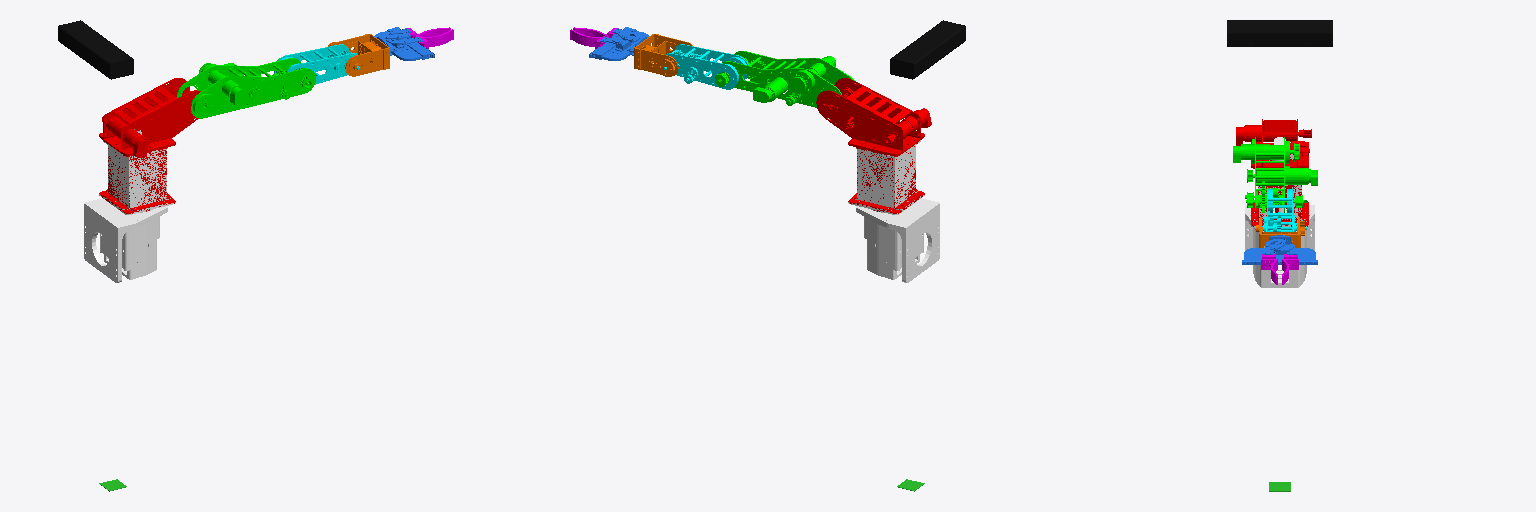
The robot description file, URDF, robot "xm_urdf":
<robot
  name="xm_urdf">
  <link
    name="base_link">
    <inertial>
      <origin
        xyz="-0.040081 0.0020354 0.00771"
        rpy="0 0 0" />
      <mass
        value="19.957" />
      <inertia
        ixx="1.5944"  
        ixy="0.00026634"
        ixz="-0.12442"
        iyy="1.6002"
        iyz="-0.0030432"
        izz="0.43455" />
    </inertial>
    <visual>
      <origin
        xyz="0 0 0"
        rpy="0 0 0" />
      <geometry>
        <mesh
          filename="package://xm_urdf/meshes/base_link.STL" />
      </geometry>
      <material
        name="">
        <color
          rgba="0 0 1 1" />
      </material>
    </visual>
    <collision>
      <origin
        xyz="0 0 0"
        rpy="0 0 0" />
      <geometry>
        <mesh
          filename="package://xm_urdf/meshes/base_link.STL" />
      </geometry>
    </collision>
  </link>

  <link name="base_footprint">
    <visual>
      <origin xyz="0 0 0" rpy="0 0 0" />
      <geometry>
        <box size="0.05 0.05 0.001" />
      </geometry>
         <material name="green">
            <color rgba="0.2 0.8 0.2 1.0"/>
         </material>   
    </visual>

    <collision>
      <origin xyz="0 0 0" rpy="0 0 0" />
      <geometry>
       <box size="0.001 0.001 0.001" />
      </geometry>
    </collision>
  </link>

  <joint name="Joint_base" type="fixed">
    <origin xyz="0 0 0 " rpy="0 0 0" />        
    <parent link="base_footprint"/>
    <child link="base_link" />
  </joint>

  <link
    name="lifting_link">
    <inertial>
      <origin
        xyz="0.074678 2.0348E-10 0.044467"
        rpy="0 0 0" />
      <mass
        value="4.139" />
      <inertia
        ixx="0.017083"
        ixy="6.8588E-11"
        ixz="0.0074192"
        iyy="0.023514"
        iyz="-2.4738E-11"
        izz="0.020683" />
    </inertial>
    <visual>
      <origin
        xyz="0 0 0"
        rpy="0 0 0" />
      <geometry>
        <mesh
          filename="package://xm_urdf/meshes/lifting_Link.STL" />
      </geometry>
      <material
        name="">
        <color
          rgba="1 1 1 1" />
      </material>
    </visual>
    <collision>
      <origin
        xyz="0 0 0"
        rpy="0 0 0" />
      <geometry>
        <mesh
          filename="package://xm_urdf/meshes/lifting_Link.STL" />
      </geometry>
    </collision>
  </link>
  <joint
    name="joint_lifting"
    type="prismatic">
    <origin
      xyz="-0.069 0 0.63"
      rpy="3.4694E-16 -2.4652E-32 1.1061E-16" />
    <parent
      link="base_link" />
    <child
      link="lifting_link" />
    <axis
      xyz="0 0 1" />
    <limit
      lower="-0.18"
      upper="0.2"
      effort="0"
      velocity="1" />
  </joint>
  <link
    name="waist_link">
    <inertial>
      <origin
        xyz="0.00028239 -0.011695 0.023378"
        rpy="0 0 0" />
      <mass
        value="1.8049" />
      <inertia
        ixx="0.014015"
        ixy="0.00036488"
        ixz="0.0018608"
        iyy="0.015768"
        iyz="-0.0002136"
        izz="0.0079986" />
    </inertial>
    <visual>
      <origin
        xyz="0 0 0"
        rpy="0 0 0" />
      <geometry>
        <mesh
          filename="package://xm_urdf/meshes/waist_Link.STL" />
      </geometry>
      <material
        name="">
        <color
          rgba="1 0 0 1" />
      </material>
    </visual>
    <collision>
      <origin
        xyz="0 0 0"
        rpy="0 0 0" />
      <geometry>
        <mesh
          filename="package://xm_urdf/meshes/waist_Link.STL" />
      </geometry>
    </collision>
  </link>
  <joint
    name="joint_waist"
    type="revolute">
    <origin
      xyz="0.136 0 0.2228"
      rpy="-2.5007E-16 6.163E-33 -5.5103E-17" />
    <parent
      link="lifting_link" />
    <child
      link="waist_link" />
    <axis
      xyz="0 0 1" />
    <limit
      lower="-1.57"
      upper="1.57"
      effort="0"
      velocity="1" />
  </joint>
  <link
    name="big_arm_link">
    <inertial>
      <origin
        xyz="0.13657 -0.019222 0.004697"
        rpy="0 0 0" />
      <mass
        value="1.3317" />
      <inertia
        ixx="0.0039715"
        ixy="-8.8549E-05"
        ixz="-0.00032731"
        iyy="0.01395"
        iyz="1.8482E-05"
        izz="0.01645" />
    </inertial>
    <visual>
      <origin
        xyz="0 0 0"
        rpy="0 0 0" />
      <geometry>
        <mesh
          filename="package://xm_urdf/meshes/big_arm_Link.STL" />
      </geometry>
      <material
        name="">
        <color
          rgba="0 1 0 1" />
      </material>
    </visual>
    <collision>
      <origin
        xyz="0 0 0"
        rpy="0 0 0" />
      <geometry>
        <mesh
          filename="package://xm_urdf/meshes/big_arm_Link.STL" />
      </geometry>
    </collision>
  </link>
  <joint
    name="joint_big_arm"
    type="revolute">
    <origin
      xyz="0.15 0 0.12996"
      rpy="3.0815E-33 0 0" />
    <parent
      link="waist_link" />
    <child
      link="big_arm_link" />
    <axis
      xyz="0 -1 0" />
    <limit
      lower="-1.57"
      upper="1.57"
      effort="0"
      velocity="1" />
  </joint>
  <link
    name="fore_arm_link">
    <inertial>
      <origin
        xyz="0.060951 0.0019667 -0.00083259"
        rpy="0 0 0" />
      <mass
        value="0.67632" />
      <inertia
        ixx="0.0011499"
        ixy="0.00019229"
        ixz="-4.646E-05"
        iyy="0.006325"
        iyz="-1.6004E-05"
        izz="0.0070611" />
    </inertial>
    <visual>
      <origin
        xyz="0 0 0"
        rpy="0 0 0" />
      <geometry>
        <mesh
          filename="package://xm_urdf/meshes/fore_arm_Link.STL" />
      </geometry>
      <material
        name="">
        <color
          rgba="0 1 1 1" />
      </material>
    </visual>
    <collision>
      <origin
        xyz="0.10 0.0 0"
        rpy="0 0 0" />
      <geometry>
        <mesh
          filename="package://xm_urdf/meshes/fore_arm_Link.STL" />
      </geometry>
    </collision>
  </link>
  <joint
    name="joint_fore_arm"
    type="revolute">
    <origin
      xyz="0.28 0 -0.002"
      rpy="3.0815E-33 0 0" />
    <parent
      link="big_arm_link" />
    <child
      link="fore_arm_link" />
    <axis
      xyz="0 -1 0" />
    <limit
      lower="-2.1"
      upper="2.1"
      effort="0"
      velocity="1" />
  </joint>
  <link
    name="wrist_link">
    <inertial>
      <origin
        xyz="0.04496 0.001943 4.885E-15"
        rpy="0 0 0" />
      <mass
        value="0.21596" />
      <inertia
        ixx="0.00041975"
        ixy="-8.084E-06"
        ixz="2.5006E-17"
        iyy="0.00030788"
        iyz="-9.822E-17"
        izz="0.00068067" />
    </inertial>
    <visual>
      <origin
        xyz="0 0 0"
        rpy="0 0 0" />
      <geometry>
        <mesh
          filename="package://xm_urdf/meshes/wrist_Link.STL" />
      </geometry>
      <material
        name="">
        <color
          rgba="1 0.5 0 1" />
      </material>
    </visual>
    <collision>
      <origin
        xyz="0.09 0.0 0"
        rpy="0 0 0" />
      <geometry>
        <mesh
          filename="package://xm_urdf/meshes/wrist_Link.STL" />
      </geometry>
    </collision>
  </link>
  <joint
    name="joint_wrist"
    type="revolute">
    <origin
      xyz="0.15 0 0"
      rpy="3.0815E-33 0 0" />
    <parent
      link="fore_arm_link" />
    <child
      link="wrist_link" />
    <axis
      xyz="0 -1 0" />
    <limit
      lower="-2.2"
      upper="2.2"
      effort="0"
      velocity="1" />
  </joint>
  <link
    name="small_arm_link">
    <inertial>
      <origin
        xyz="0.045924 0.00086039 0.00055841"
        rpy="0 0 0" />
      <mass
        value="0.36527" />
      <inertia
        ixx="0.0004828"
        ixy="1.0886E-05"
        ixz="-8.5383E-07"
        iyy="0.00032887"
        iyz="-7.465E-06"
        izz="0.00072728" />
    </inertial>
    <visual>
      <origin
        xyz="0 0 0"
        rpy="0 0 0" />
      <geometry>
        <mesh
          filename="package://xm_urdf/meshes/small_arm_Link.STL" />
      </geometry>
      <material
        name="">
        <color
          rgba="0.2 0.54902 1 1" />
      </material>
    </visual>
    <collision>
      <origin
        xyz="0 0 0"
        rpy="0 0 0" />
      <geometry>
        <mesh
          filename="package://xm_urdf/meshes/small_arm_Link.STL" />
      </geometry>
    </collision>
  </link>
  <joint
    name="joint_small_arm"
    type="revolute">
    <origin
      xyz="0.095 0 0"
      rpy="3.0815E-33 0 0" />
    <parent
      link="wrist_link" />
    <child
      link="small_arm_link" />
    <axis
      xyz="1 0 0" />
    <limit
      lower="-1.57"
      upper="1.57"
      effort="0"
      velocity="1" />
  </joint>
  <link
    name="right_finger_link">
    <inertial>
      <origin
        xyz="0.014397 -0.0066887 -0.00011479"
        rpy="0 0 0" />
      <mass
        value="0.030707" />
      <inertia
        ixx="5.8119E-06"
        ixy="5.2065E-06"
        ixz="-6.4561E-06"
        iyy="4.538E-05"
        iyz="-8.9082E-07"
        izz="4.4551E-05" />
    </inertial>
    <visual>
      <origin
        xyz="0 0 0"
        rpy="0 0 0" />
      <geometry>
        <mesh
          filename="package://xm_urdf/meshes/right_finger_Link.STL" />
      </geometry>
      <material
        name="">
        <color
          rgba="1 0 1 1" />
      </material>
    </visual>
    <collision>
      <origin
        xyz="0 0 0"
        rpy="0 0 0" />
      <geometry>
        <mesh
          filename="package://xm_urdf/meshes/right_finger_Link.STL" />
      </geometry>
    </collision>
  </link>
  <joint
    name="joint_right_finger"
    type="prismatic">
    <origin
      xyz="0.11191 -0.013688 0.0025"
      rpy="3.0815E-33 0 0" />
    <parent
      link="small_arm_link" />
    <child
      link="right_finger_link" />
    <axis
      xyz="0 -1 0" />
    <limit
      lower="-0.03"
      upper="0.0"
      effort="0"
      velocity="0" />
  </joint>
  <link
    name="left_finger_link">
    <inertial>
      <origin
        xyz="0.014397 0.0066887 -0.00011479"
        rpy="0 0 0" />
      <mass
        value="0.030707" />
      <inertia
        ixx="5.8118E-06"
        ixy="-5.2065E-06"
        ixz="-6.456E-06"
        iyy="4.538E-05"
        iyz="8.9056E-07"
        izz="4.4551E-05" />
    </inertial>
    <visual>
      <origin
        xyz="0 0 0"
        rpy="0 0 0" />
      <geometry>
        <mesh
          filename="package://xm_urdf/meshes/left_finger_Link.STL" />
      </geometry>
      <material
        name="">
        <color
          rgba="1 0 1 1" />
      </material>
    </visual>
    <collision>
      <origin
        xyz="0 0 0"
        rpy="0 0 0" />
      <geometry>
        <mesh
          filename="package://xm_urdf/meshes/left_finger_Link.STL" />
      </geometry>
    </collision>
  </link>
  <joint
    name="joint_left_finger"
    type="prismatic">
    <origin
      xyz="0.11191 0.013688 0.0025"
      rpy="3.0815E-33 0 0" />
    <parent
      link="small_arm_link" />
    <child
      link="left_finger_link" />
    <axis
      xyz="0 1 0" />
    <limit
      lower="-0.03"
      upper="0.0"
      effort="0"
      velocity="0" />
  </joint>

  <joint name="joint_gripper" type="fixed">
    <origin rpy="0 0 0" xyz="0.250 0 0"/>
    <parent link="small_arm_link"/>
    <child link="gripper_link"/>
  </joint>

  <link name="gripper_link">
    <visual>
      <origin rpy="0 0 0" xyz="-0.05 0 0"/>
      <geometry>
        <box size="0.001 0.001 0.001"/>
      </geometry>
    </visual>
    <collision>
      <origin rpy="0 0 0" xyz="-0.05 0 0"/>
      <geometry>
        <box size="0.001 0.001 0.001"/>
      </geometry>
    </collision>
    <!--inertial>
         <mass value="0.0012" />
         <origin xyz="0 0 0"/>
         <inertia ixx="2e-8" ixy="0.0" ixz="0.0"
          iyy="2e-8" iyz="0.0"
          izz="2e-8" />
      </inertial -->
  </link>

  <link
    name="camera_link">
    <inertial>
      <origin
        xyz="-3.4768E-17 0.00011801 -0.033701"
        rpy="0 0 0" />
      <mass
        value="0.709308627124816" />
      <inertia
        ixx="0.000367107659347609"
        ixy="1.16555911449125E-18"
        ixz="-1.2123038567923E-19"
        iyy="0.00397332546988835"
        iyz="-1.98390601321254E-06"
        izz="0.00382036555029128" />
    </inertial>
    <visual>
      <origin
        xyz="0 0 0"
        rpy="0 0 0" />
      <geometry>
        <mesh
          filename="package://xm_urdf/meshes/camera_Link.STL" />
      </geometry>
      <material
        name="">
        <color
          rgba="0.1 0.1 0.1 1" />
      </material>
    </visual>
    <collision>
      <origin
        xyz="0 0 0"
        rpy="0 0 0" />
      <geometry>
        <mesh
          filename="package://xm_urdf/meshes/camera_Link.STL" />
      </geometry>
    </collision>
  </link>
  <joint
    name="joint_camera"
    type="fixed">
    <origin
      xyz="-0.014876 0 1.1671"
      rpy="1.5766 -3.0058E-16 1.5708" />
    <parent
      link="base_link" />
    <child
      link="camera_link" />
    <axis
      xyz="0 -1 0" />
  </joint>
  <link
    name="laser_link" />
  <joint
    name="laser"
    type="fixed">
    <origin
      xyz="0.14285 0 0.264"
      rpy="-0.15111 0.040496 0.25986" />
    <parent
      link="base_link" />
    <child
      link="laser_link" />
    <axis
      xyz="0 0 0" />
  </joint>
</robot>

--- Facts derived from the render (not from the file) ---
3 views of the same robot in one strip: view 1: azimuth 30°, elevation 25°; view 2: azimuth 150°, elevation 25°; view 3: azimuth 270°, elevation 25° (orthographic).
Model xm_urdf with 13 links and 12 joints (5 revolute, 3 prismatic, 4 fixed), rooted at base_footprint, posed every joint at zero.
Visible links, largest first — view 1: lifting_link, waist_link, big_arm_link, camera_link, fore_arm_link, wrist_link, small_arm_link; view 2: lifting_link, waist_link, big_arm_link, camera_link, fore_arm_link, wrist_link, small_arm_link; view 3: big_arm_link, camera_link, waist_link, lifting_link, small_arm_link, fore_arm_link, wrist_link.
Link boxes in pixels (box(x1,y1,x2,y2)): lifting_link: box(84, 129, 175, 282); waist_link: box(99, 78, 200, 213); big_arm_link: box(177, 58, 315, 118); camera_link: box(58, 20, 133, 79); fore_arm_link: box(274, 44, 359, 84); wrist_link: box(328, 34, 389, 76); small_arm_link: box(374, 27, 434, 60); lifting_link: box(848, 140, 939, 282); waist_link: box(816, 78, 931, 213); big_arm_link: box(715, 51, 855, 107); camera_link: box(890, 20, 965, 79); fore_arm_link: box(663, 44, 748, 89); wrist_link: box(634, 34, 692, 76); small_arm_link: box(589, 27, 649, 60); big_arm_link: box(1233, 137, 1317, 215); camera_link: box(1227, 20, 1332, 46); waist_link: box(1236, 119, 1311, 226); lifting_link: box(1245, 137, 1314, 287); small_arm_link: box(1242, 235, 1317, 264); fore_arm_link: box(1255, 188, 1306, 231); wrist_link: box(1256, 217, 1304, 247).
Bounding box of the posed robot: 1.02 × 0.25 × 1.19 m (x, y, z).
9 mesh visuals loaded from 10 distinct referenced files (9 binary STL); not drawn: 1 (reference not matched to a file when rendering).